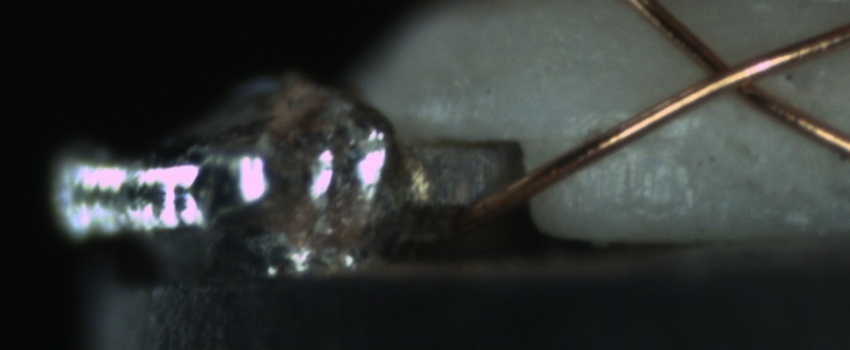CL: (684, 38, 786, 109)
